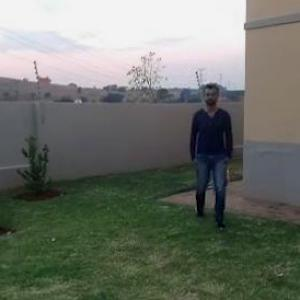follow: (192, 80, 238, 229)
